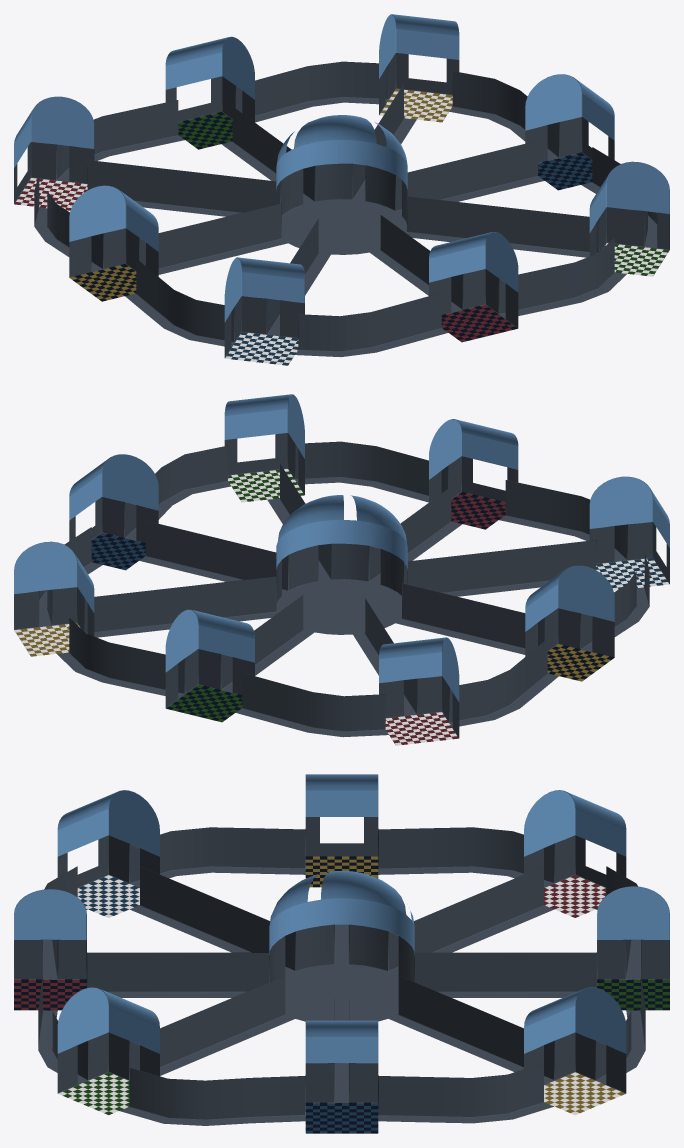
File: cool-maze.glb
3 renders of one model, top to bottom at view 1: azimuth 30°, elevation 25°; view 2: azimuth 150°, elevation 25°; view 3: azimuth 270°, elevation 25°, orthographic. The views are drawn at different scales.
Visible parts, largest first — view 1: rooms; view 2: rooms; view 3: rooms.
Part boxes in pixels (bbox=[...]): rooms: bbox=[14, 14, 669, 365]; rooms: bbox=[14, 394, 669, 745]; rooms: bbox=[14, 774, 669, 1133].
Bounding box in the file's own units: 45 × 8.75 × 45.
